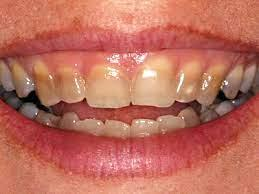Discoloration: (129, 54, 171, 112), (88, 63, 131, 110), (172, 59, 206, 105), (197, 61, 229, 108), (54, 62, 87, 107), (32, 57, 62, 106), (221, 62, 245, 99), (9, 60, 31, 96)
